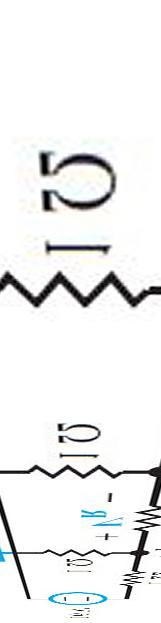resistor: (0, 263, 150, 318), (21, 456, 115, 483)
